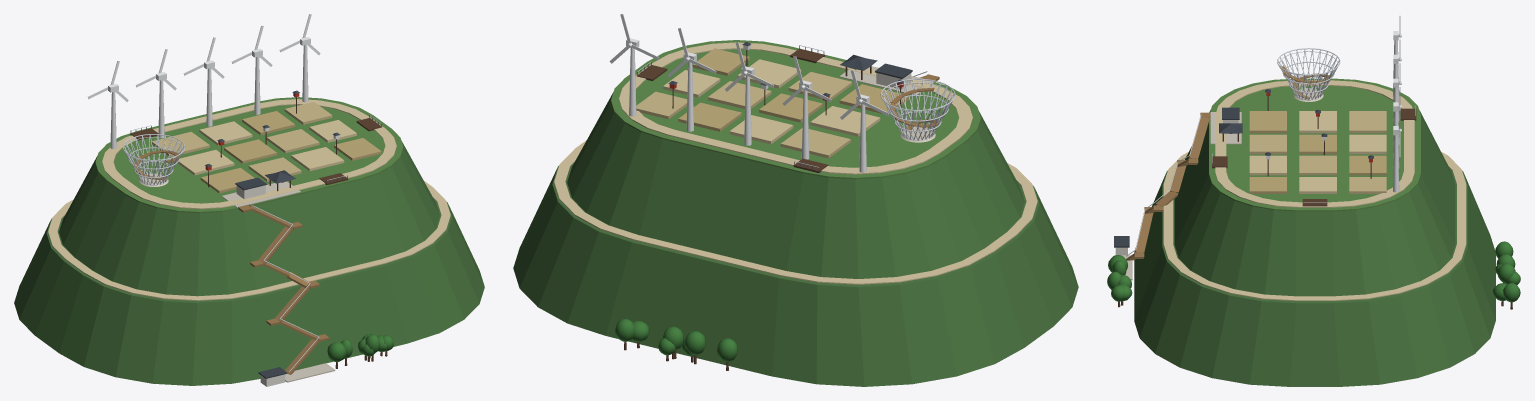
File: haneul-park.glb
3 views of the same model, side by side, from view 1: azimuth 30°, elevation 25°; view 2: azimuth 150°, elevation 25°; view 3: azimuth 270°, elevation 25° (orthographic). The views are drawn at different scales.
Bounding box in the file's own units: 152 × 80.83 × 133.
